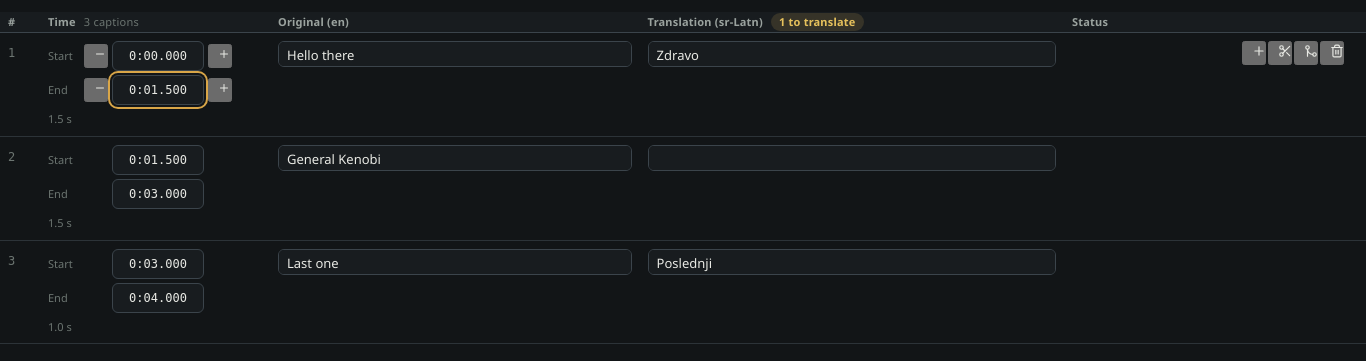
CaptionTable › reverts a timecode on Escape without committing
Replace the text in the 1st field named "End" with "0:09.000": (158, 90) [112, 75, 204, 105]
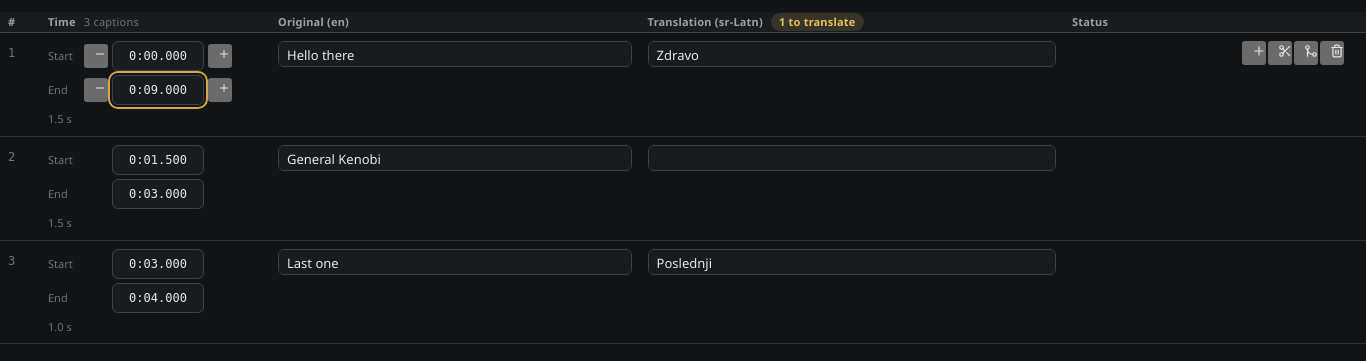
Press Escape in the 1st field named "End", box [112, 75, 204, 105]
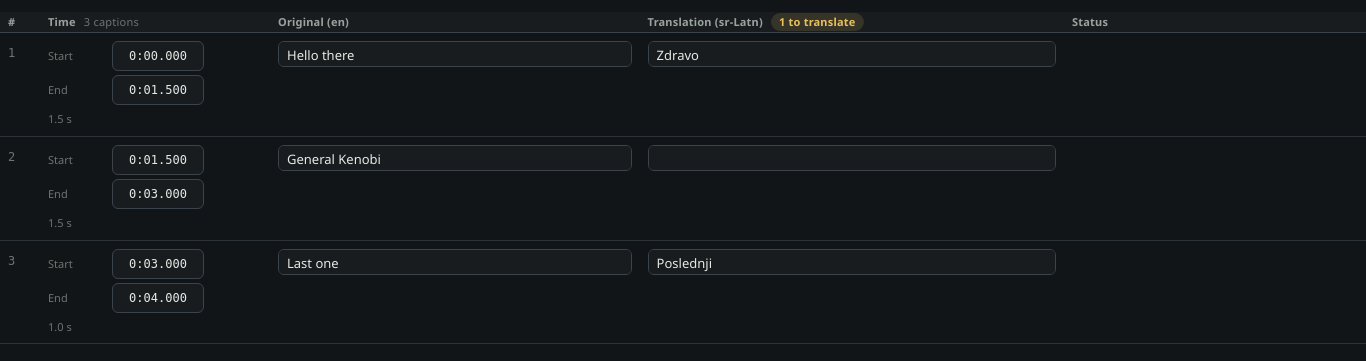
Check: the 1st field named "End" holds "0:01.500", box [112, 75, 204, 105]
